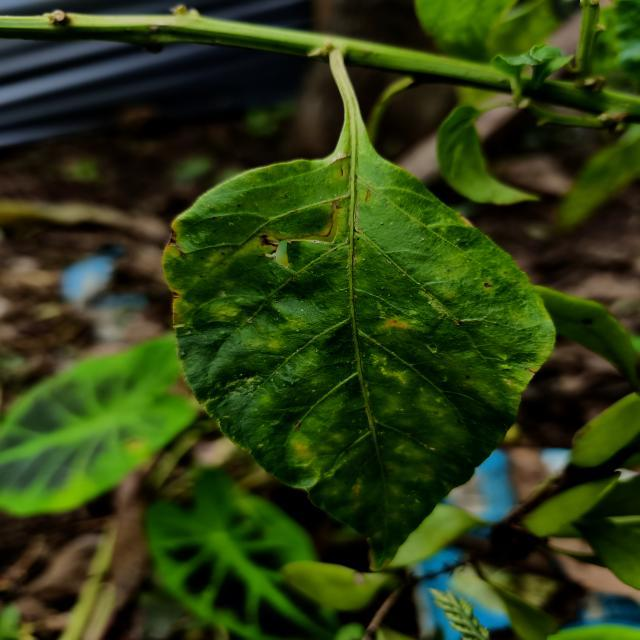Virus Kuning: (161, 125, 559, 572)
